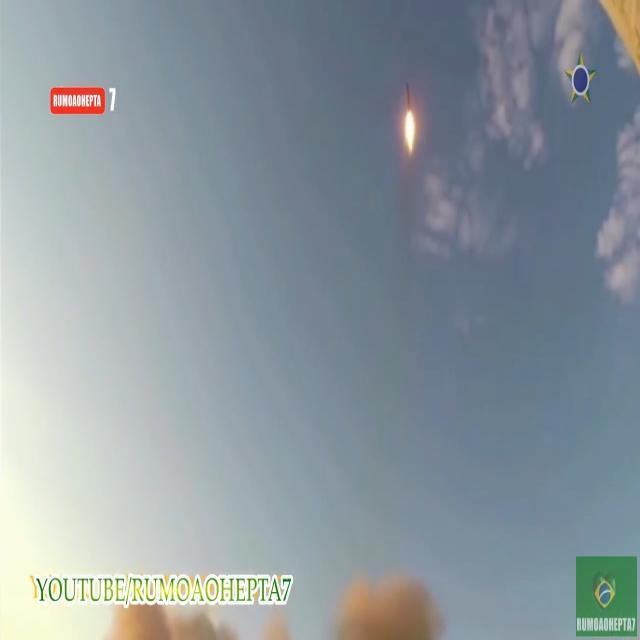missile: (404, 75, 412, 119)
